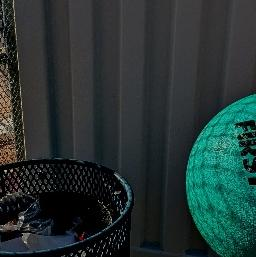algae: (181, 86, 256, 257)
